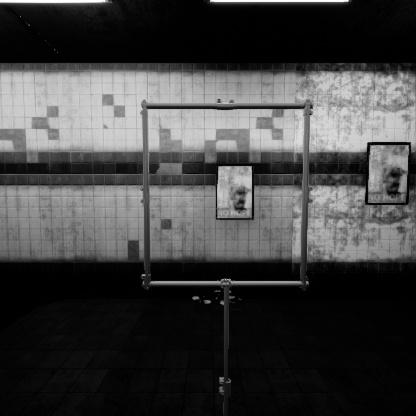gate: (142, 125, 328, 315)
